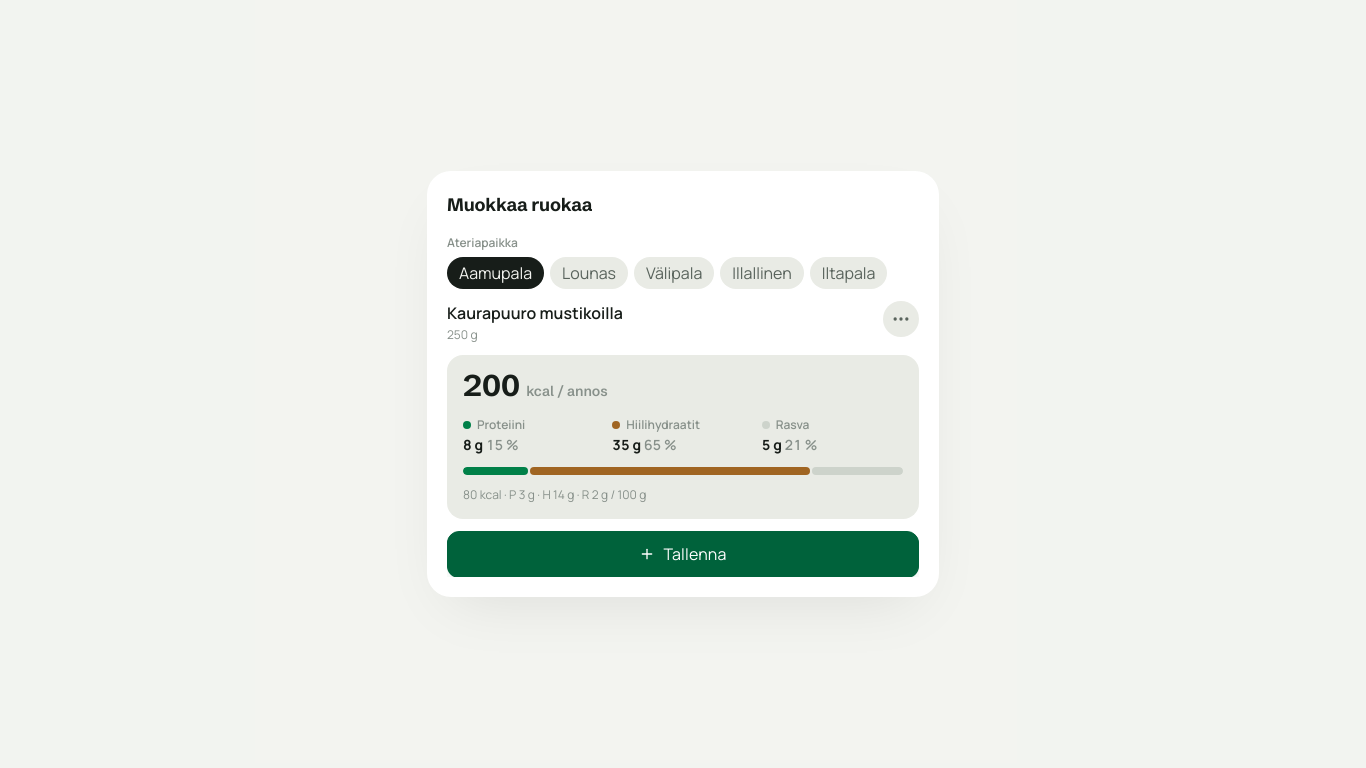
FoodEntryEditSheet › annoskoon muutos ...-valikon kautta päivittää kcal/annos-luvun
Click the button named "Avaa muokkausvalinnat": (901, 319) [883,301,919,337]
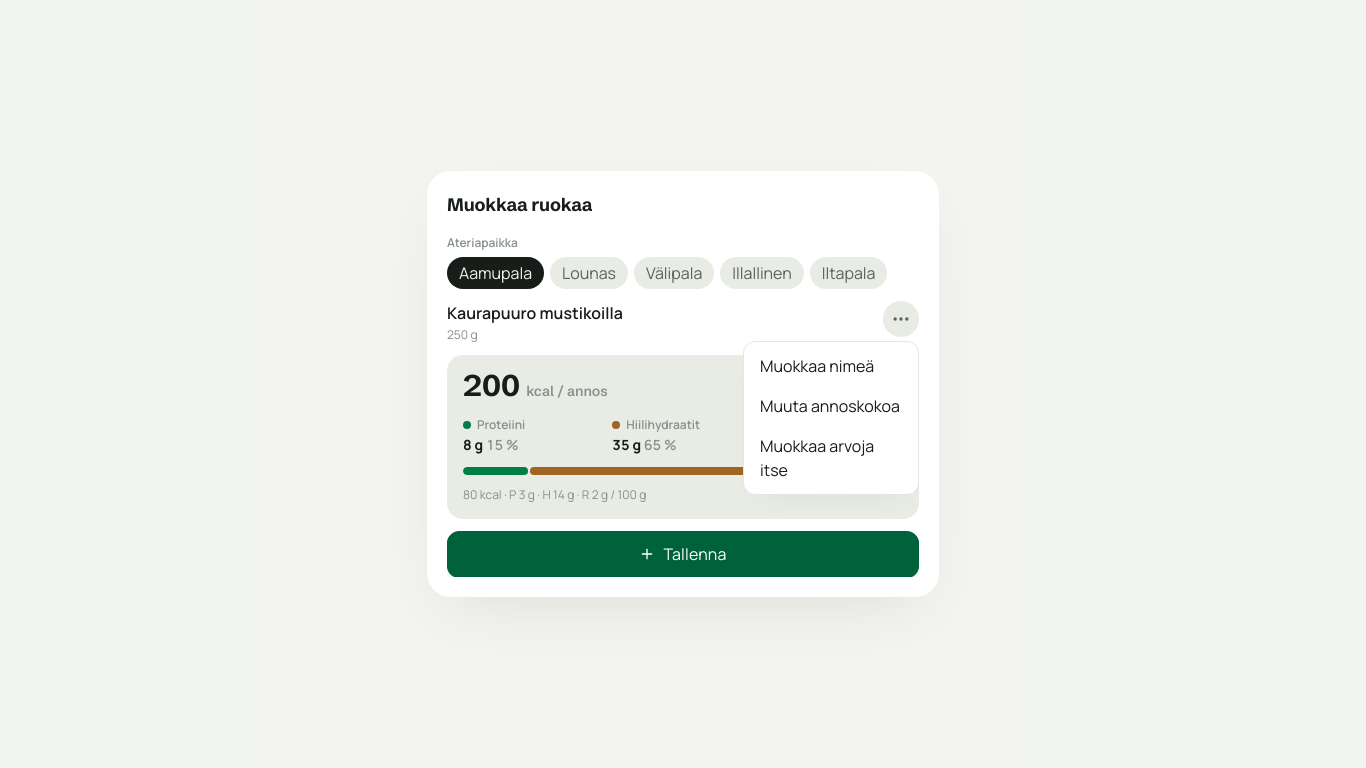
Click the menu item "Muuta annoskokoa": (831, 406) [748,386,914,426]
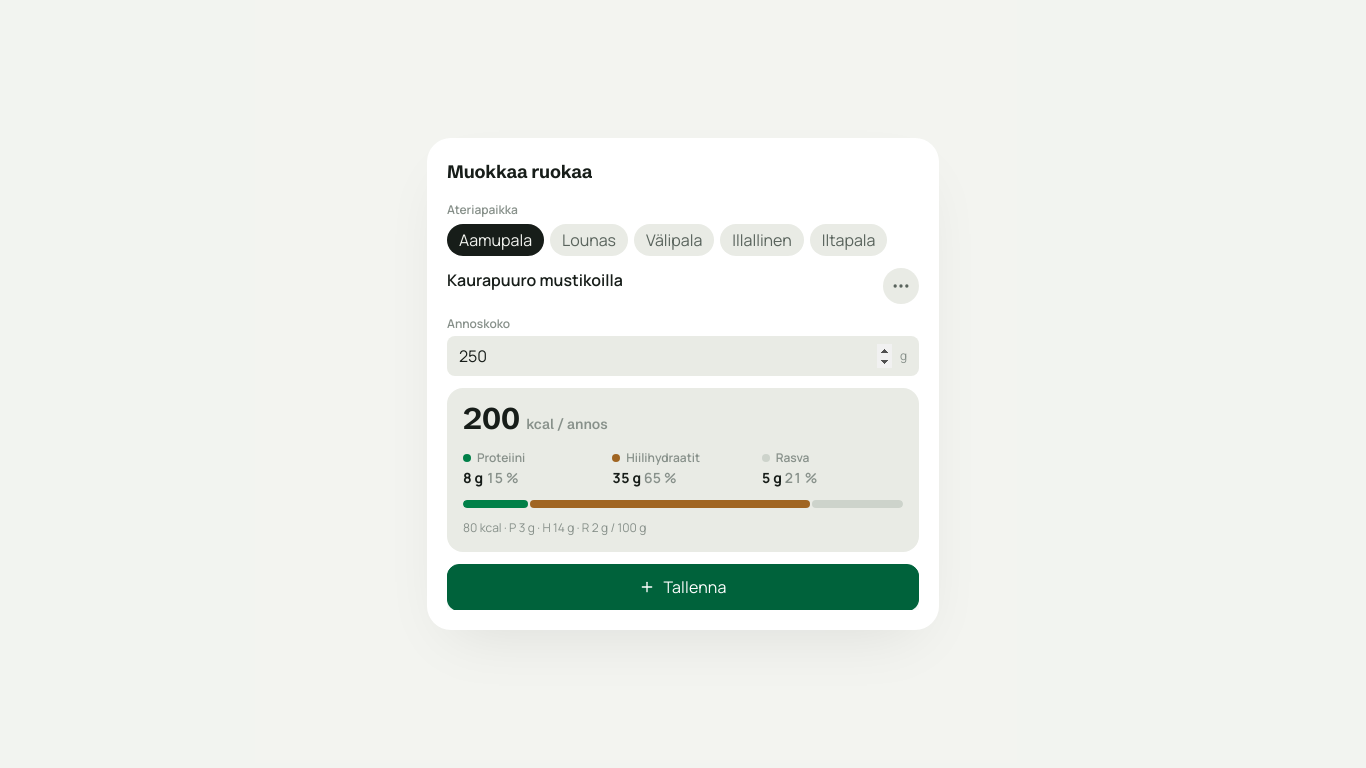
Replace the text in the number field named "Annoskoko grammoina" with "100": (675, 356) [459,344,892,368]
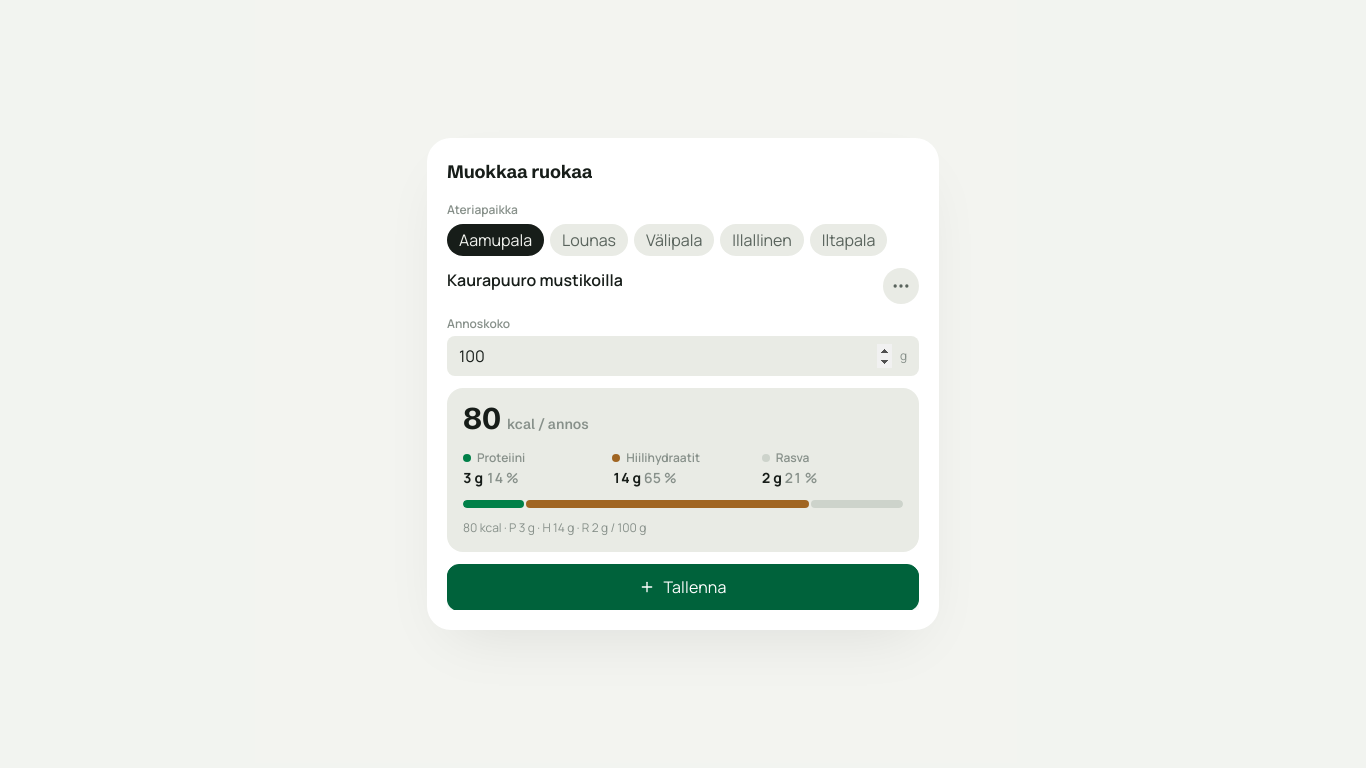
Expected: the text "80" is shown, [463,400,501,437]
